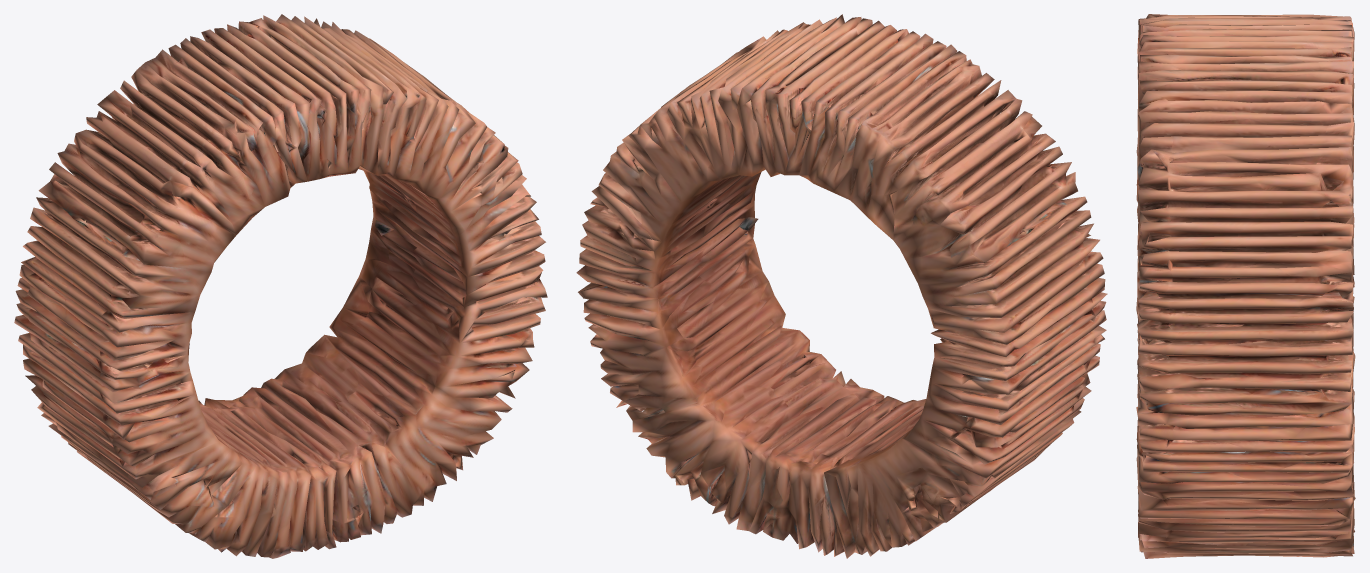
Rendered from create_a_Coil_Stator_0604135552_texture.glb.
The picture shows the model from 3 angles, left to right: view 1: azimuth 30°, elevation 25°; view 2: azimuth 150°, elevation 25°; view 3: azimuth 270°, elevation 25°; orthographic projection. The views are drawn at different scales.
Size of the model in its own units: 2 by 2 by 0.8168.
Materials: 1 (1 with a texture image).
